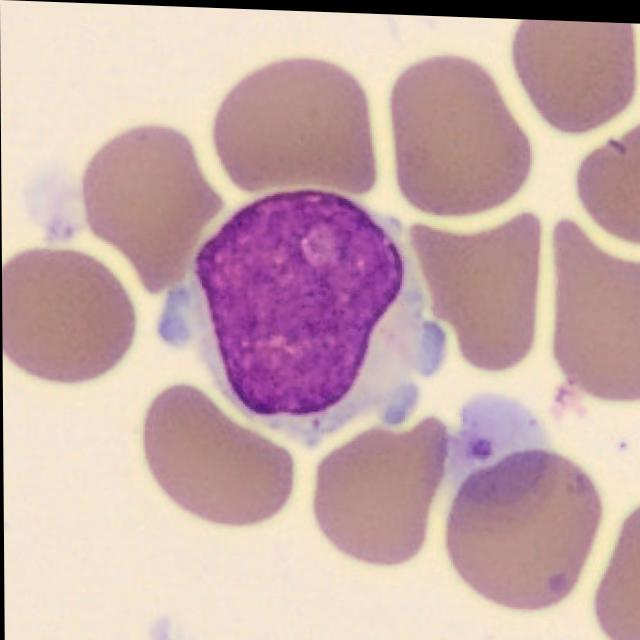Linfocito atipico: (156, 189, 444, 441)
